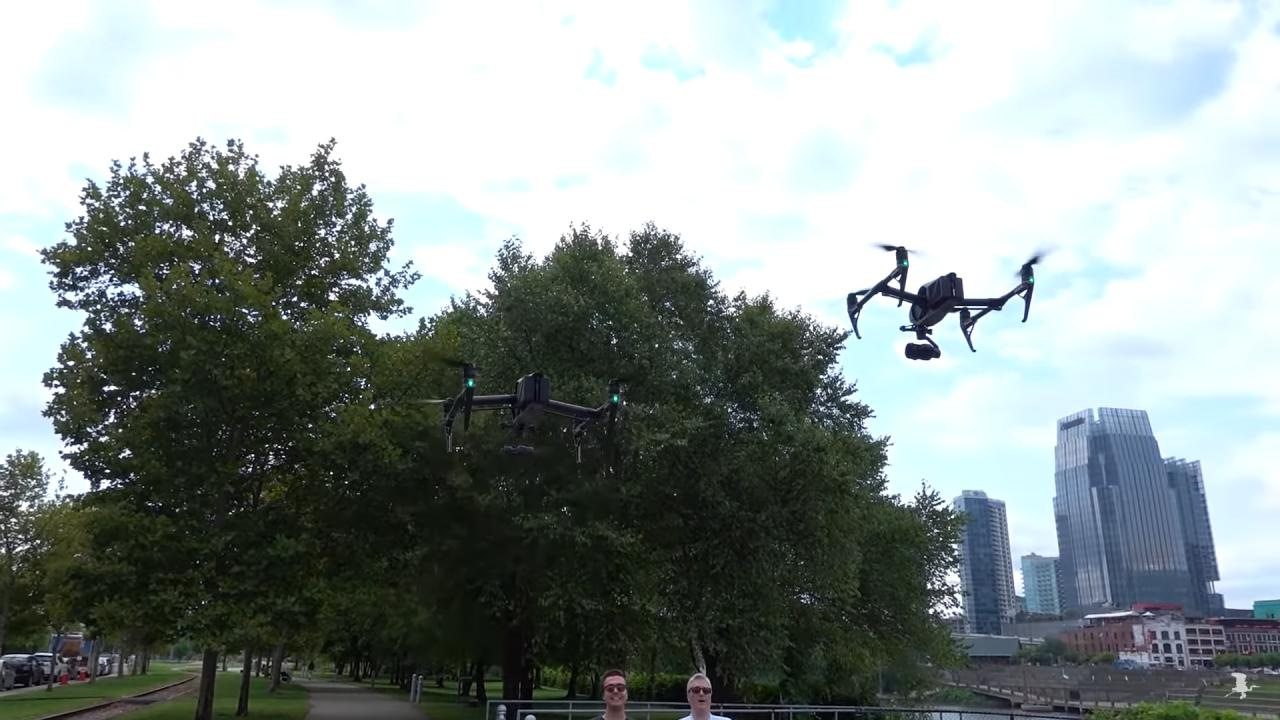Drone: (392, 337, 670, 496), (822, 225, 1078, 372)
